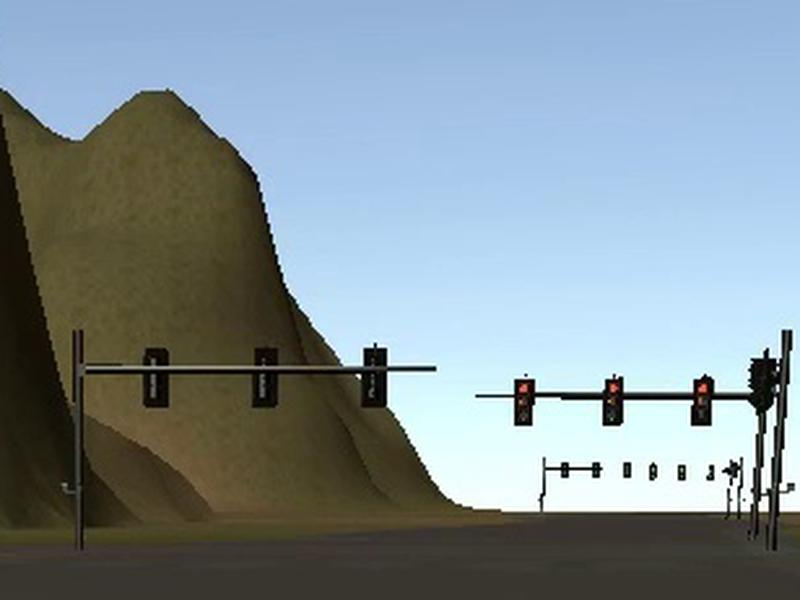Red: (602, 374, 625, 426), (692, 377, 714, 426), (513, 377, 535, 425)
